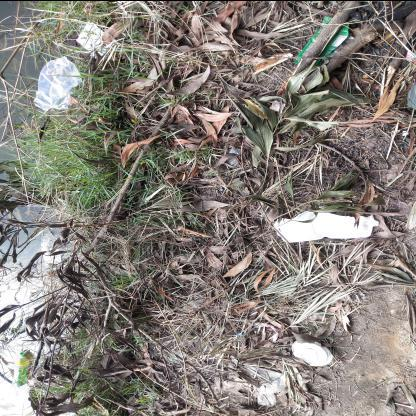plastik: (35, 56, 83, 110), (292, 340, 334, 367)
